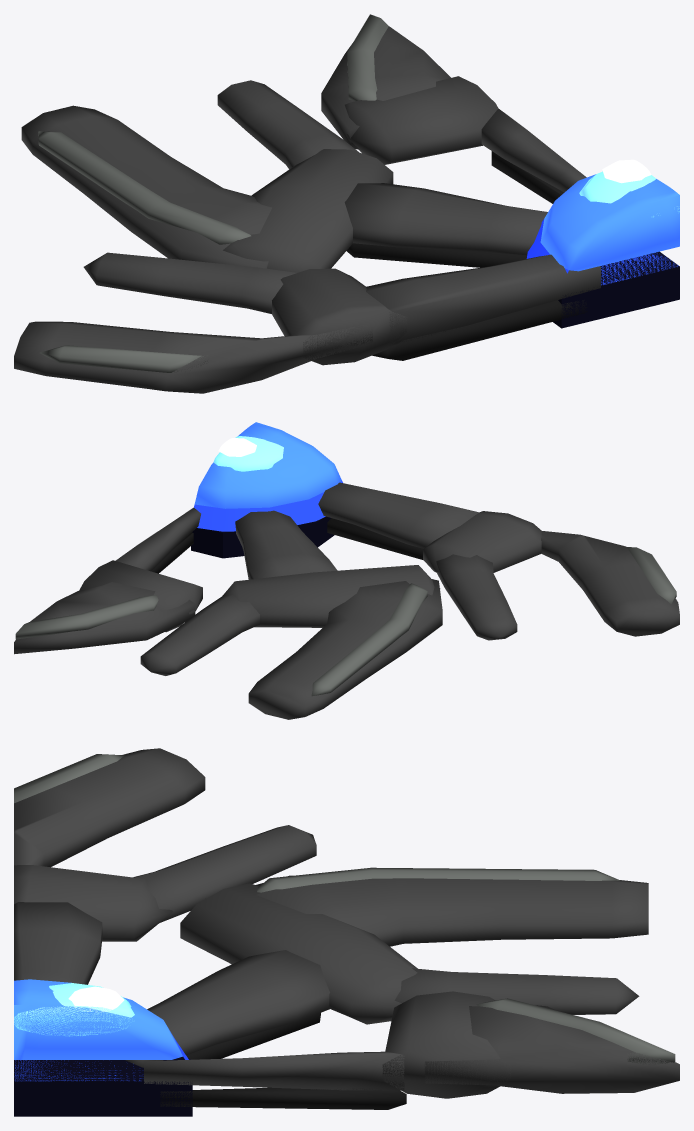
File: newsh-hash-157-f3.glb
The picture shows the model from 3 angles, top to bottom: view 1: azimuth 30°, elevation 25°; view 2: azimuth 150°, elevation 25°; view 3: azimuth 270°, elevation 25°; orthographic projection. The views are drawn at different scales.
Visible parts, largest first — view 1: newsh-hash-157-f3; view 2: newsh-hash-157-f3; view 3: newsh-hash-157-f3.
Part boxes in pixels (x1=…): newsh-hash-157-f3: x1=14, y1=14, x2=679, y2=393; newsh-hash-157-f3: x1=14, y1=422, x2=679, y2=719; newsh-hash-157-f3: x1=14, y1=748, x2=679, y2=1116.
Size of the model in its own units: 1.91 by 0.33 by 1.71.
